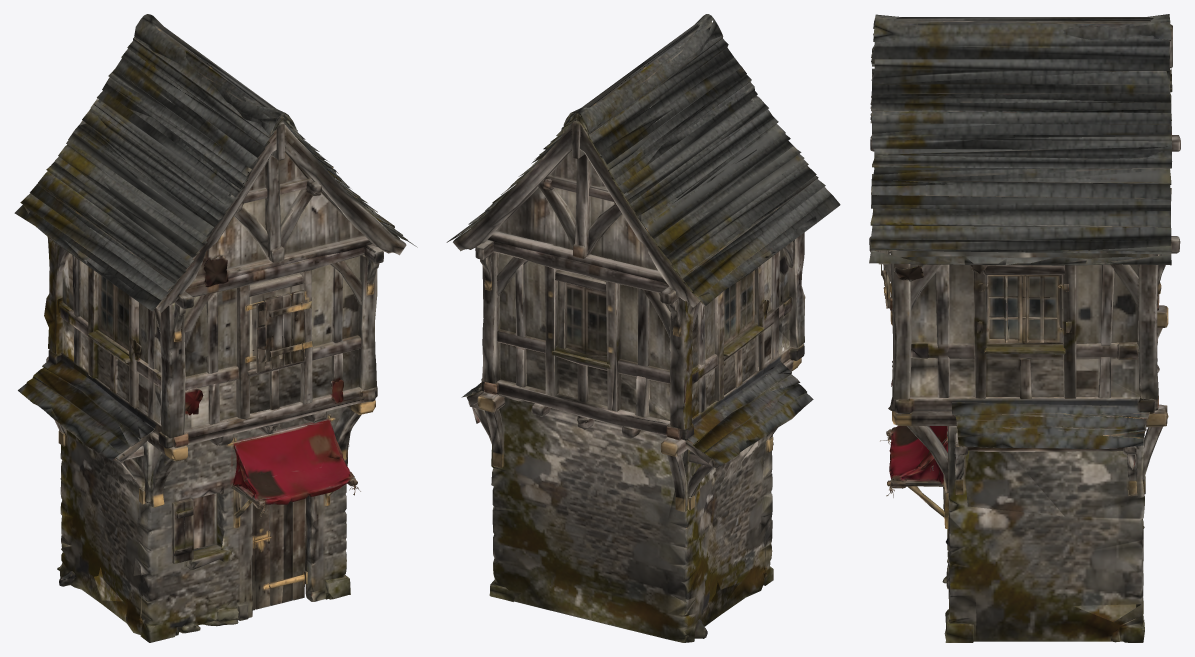
The model's file is vil-house-c.fbx.
3 views of the same model, side by side, from view 1: azimuth 30°, elevation 25°; view 2: azimuth 150°, elevation 25°; view 3: azimuth 270°, elevation 25° (orthographic). The views are drawn at different scales.
Visible parts, largest first — view 1: Mesh_0; view 2: Mesh_0; view 3: Mesh_0.
Boxes of the visible parts, bbox=[...] form: Mesh_0: bbox=[14, 14, 417, 642]; Mesh_0: bbox=[446, 14, 840, 642]; Mesh_0: bbox=[869, 14, 1180, 642].
Size of the model in its own units: 51.27 by 95.12 by 46.73.
Materials: 1 (1 with a texture image).
